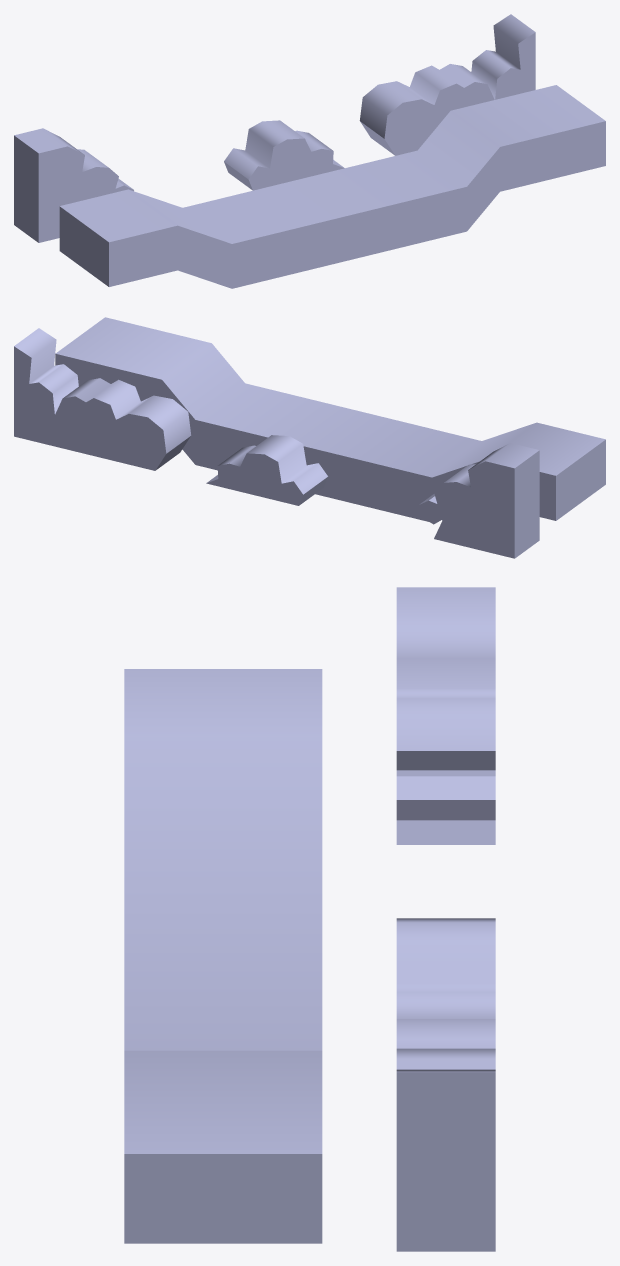
File: ChasmLeft.fbx
3 views of the same model, one above another, from view 1: azimuth 30°, elevation 25°; view 2: azimuth 150°, elevation 25°; view 3: azimuth 270°, elevation 25° (orthographic). The views are drawn at different scales.
Parts seen in each view (by area): view 1: ChasmLeftTrack, CL3, CL1, CL2; view 2: ChasmLeftTrack, CL3, CL1, CL2; view 3: ChasmLeftTrack, CL1, CL3, CL2.
Boxes of the visible parts, x1,y1,x2,y2 form: ChasmLeftTrack: (59, 85, 605, 288); CL3: (359, 14, 535, 155); CL1: (14, 128, 133, 242); CL2: (224, 120, 344, 190); ChasmLeftTrack: (55, 317, 605, 521); CL3: (14, 328, 191, 470); CL1: (418, 443, 539, 558); CL2: (206, 435, 327, 505); ChasmLeftTrack: (124, 669, 322, 1243); CL1: (396, 587, 495, 844); CL3: (396, 1019, 495, 1251); CL2: (396, 918, 495, 1018).
Bounding box in the file's own units: 58.26 × 12.96 × 18.75.
